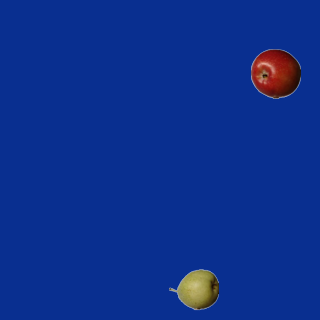Apple Braeburn: (250, 48, 300, 98)
Pear: (168, 264, 218, 314)
